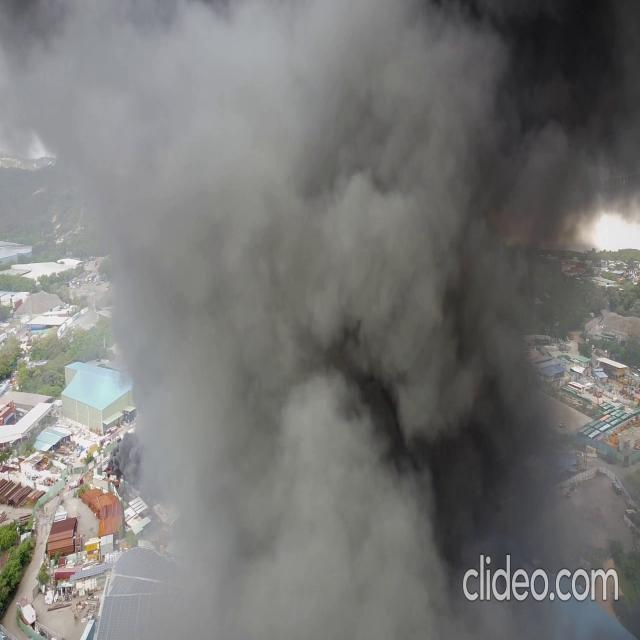Smoke: (2, 0, 638, 548)
